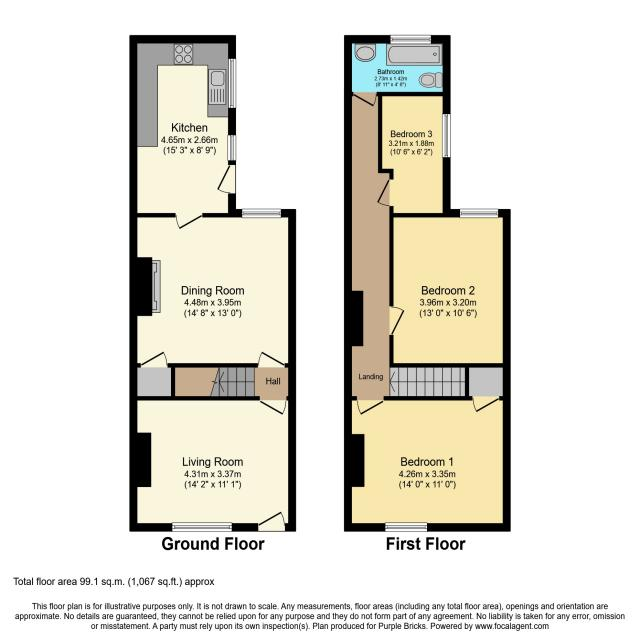DOOR: (257, 511, 286, 532), (216, 164, 236, 194), (356, 396, 384, 416), (259, 396, 287, 416), (376, 178, 394, 207), (257, 350, 285, 368), (140, 350, 168, 367), (175, 213, 203, 230), (389, 306, 405, 335), (353, 92, 377, 107)
ROOM: (129, 209, 296, 368), (344, 396, 511, 532), (129, 396, 296, 532), (129, 35, 237, 230), (389, 209, 511, 368), (376, 91, 451, 218)
WINDOW: (171, 522, 233, 532), (390, 34, 432, 45), (228, 58, 237, 109), (241, 208, 282, 219), (384, 522, 428, 532), (442, 113, 451, 158), (459, 208, 499, 218), (227, 134, 237, 161)
